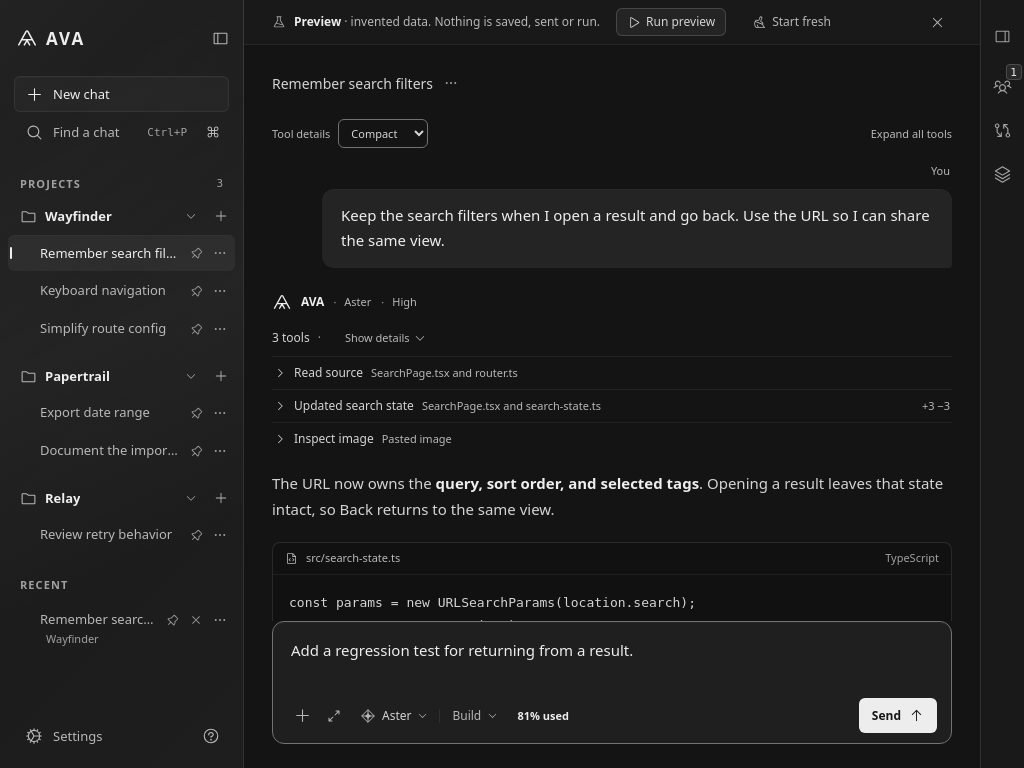
Scenario: explicit normal-chat supplied run integration › cleans timer/frame work under StrictMode unmount, including old queued callbacks
Click the button "Run preview".
click(671, 22)  # box [616,8,726,36]
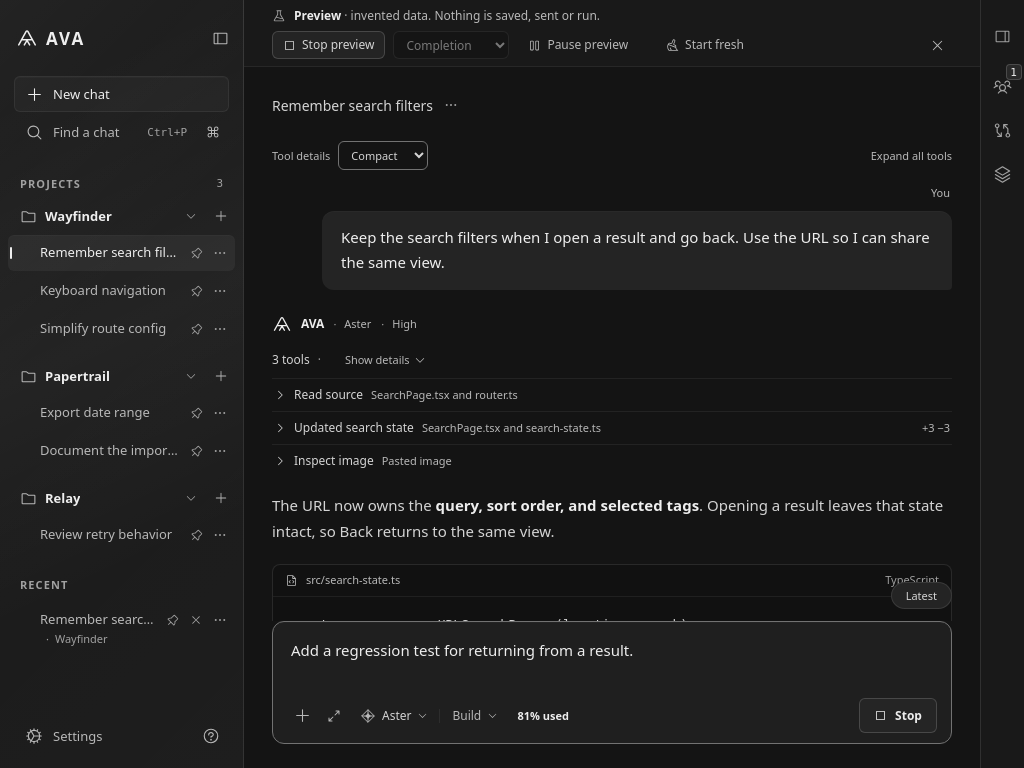
Expected: the button "Stop preview" is shown, [272,31,385,59]
